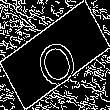O_NW: (28, 22, 82, 88)
